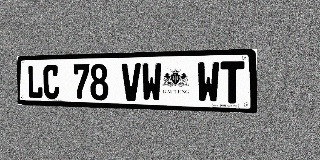7: (72, 64, 90, 100)
8: (90, 64, 108, 100)
C: (43, 64, 59, 99)
L: (27, 65, 43, 99)
T: (221, 61, 244, 104)
V: (122, 63, 141, 101)
W: (197, 62, 220, 103), (142, 63, 162, 102)
